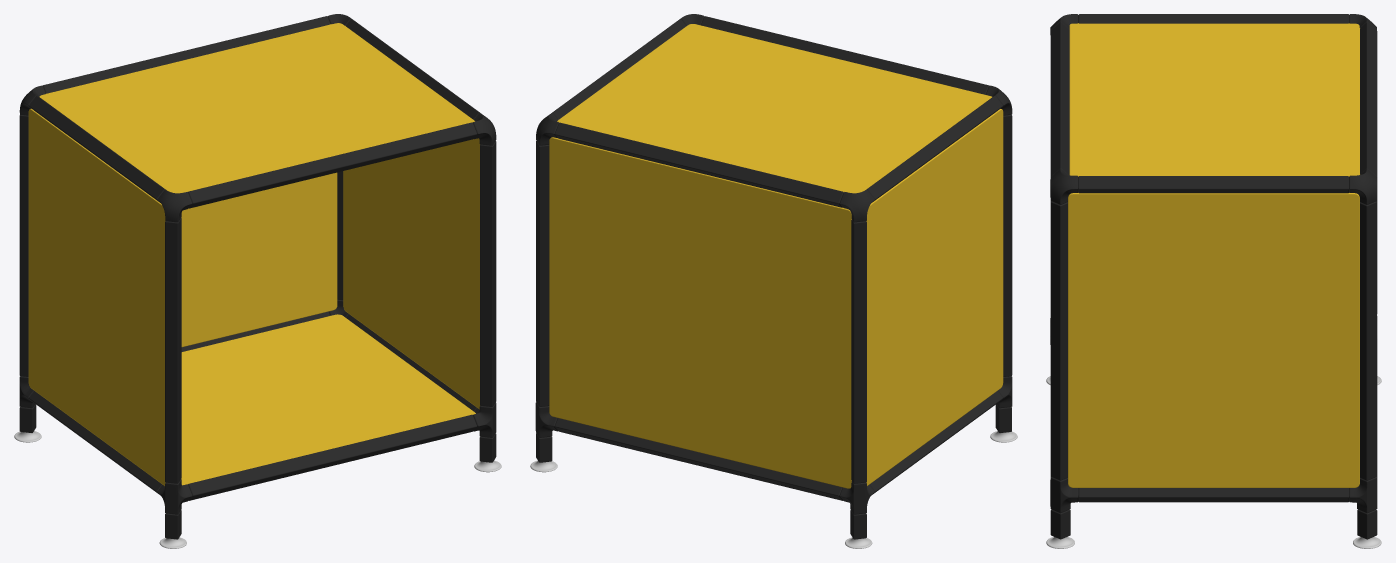
3 views of the same model, side by side, from view 1: azimuth 30°, elevation 25°; view 2: azimuth 150°, elevation 25°; view 3: azimuth 270°, elevation 25° (orthographic). The views are drawn at different scales.
Visible parts, largest first — view 1: 479x374x420; view 2: 479x374x420; view 3: 479x374x420.
Boxes of the visible parts, box(x1,y1,x2,y2) form: 479x374x420: box(14, 14, 501, 548); 479x374x420: box(530, 14, 1017, 548); 479x374x420: box(1046, 14, 1381, 548).
Size of the model in its own units: 0.5689 by 0.5593 by 0.4632.
